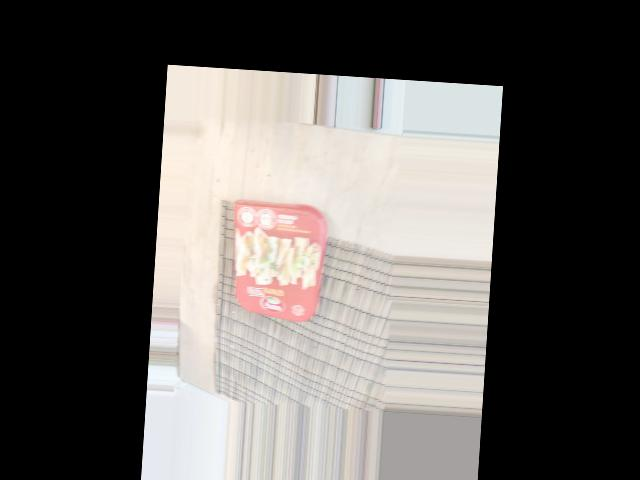cheese: (264, 239, 397, 337)
